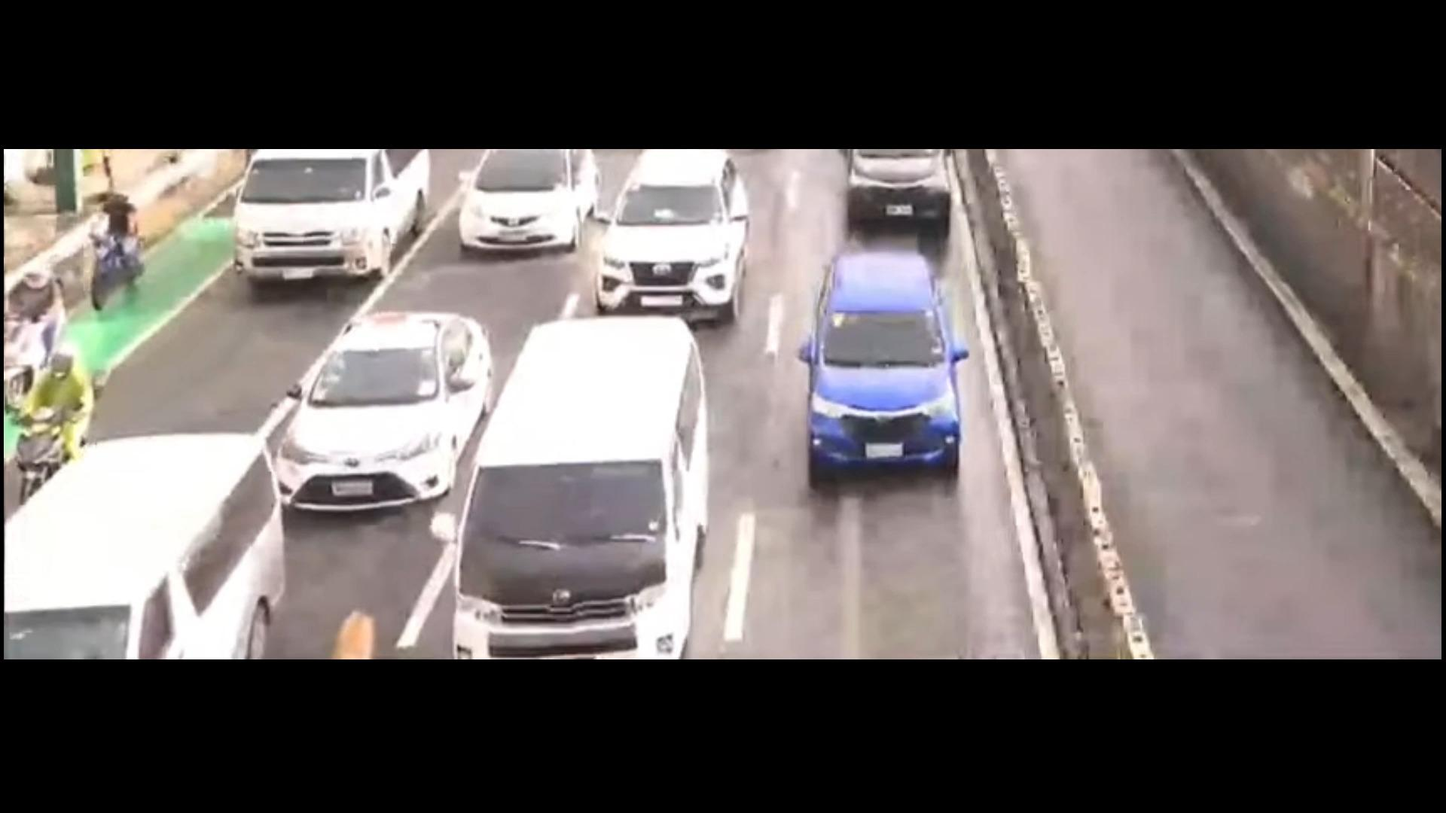Motorcycle: (0, 354, 110, 503), (0, 254, 78, 402), (70, 179, 140, 300)
SUV: (593, 155, 763, 319)
Sedan: (790, 260, 979, 505), (281, 307, 488, 515), (436, 149, 607, 258)
Van: (420, 311, 740, 664), (1, 428, 281, 660), (213, 148, 429, 315)
